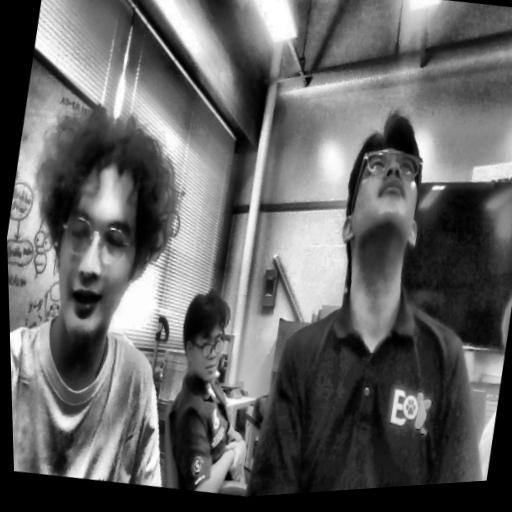Daifuku: (10, 93, 197, 347)
Not Daifuku: (324, 103, 437, 304), (171, 288, 243, 391)
